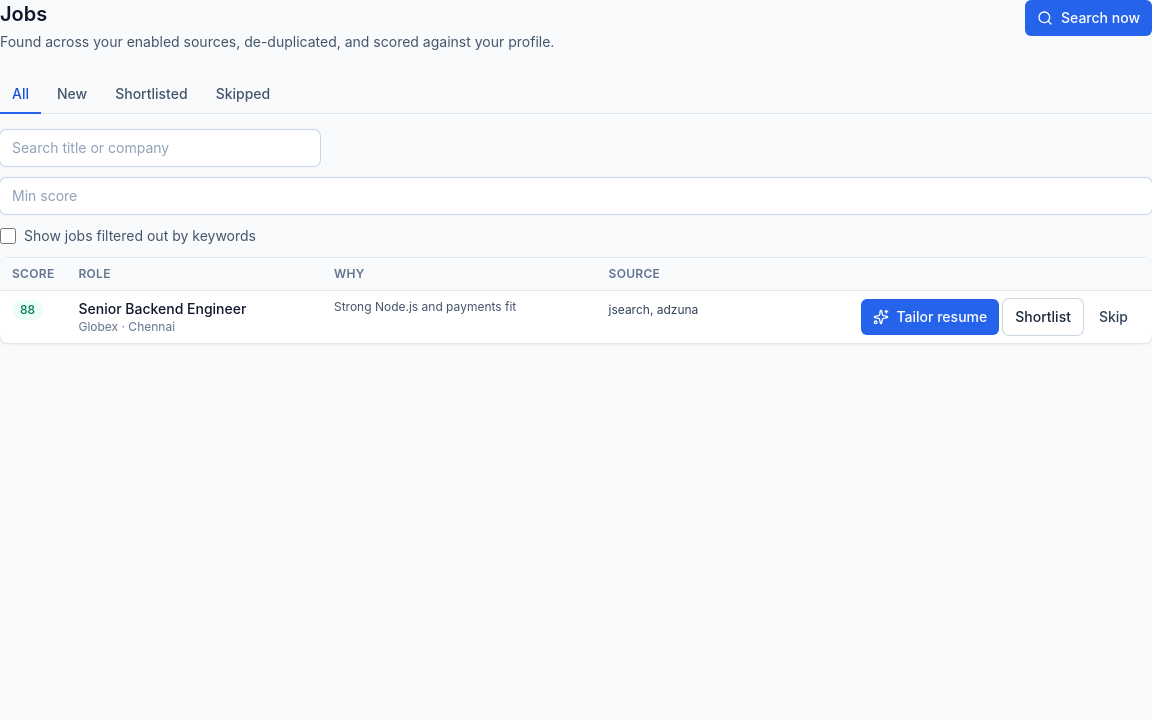
Test case: JobsPage › shows details, gaps and apply links in the job view
The image size is (1152, 720).
What coordinates should you click on to do the following:
click the text "Senior Backend Engineer"
I would click on:
 (162, 308)
Its box is x1=78 y1=300 x2=246 y2=317.
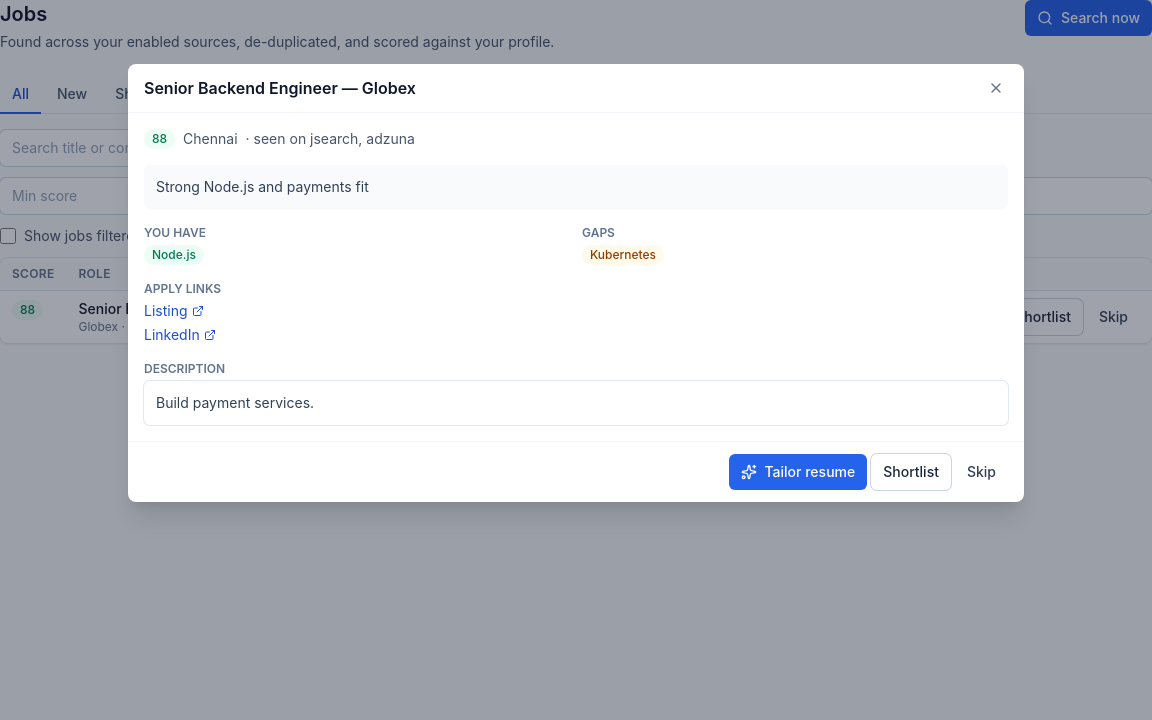
Expected: the text "Kubernetes" is shown, x1=582 y1=245 x2=664 y2=265
